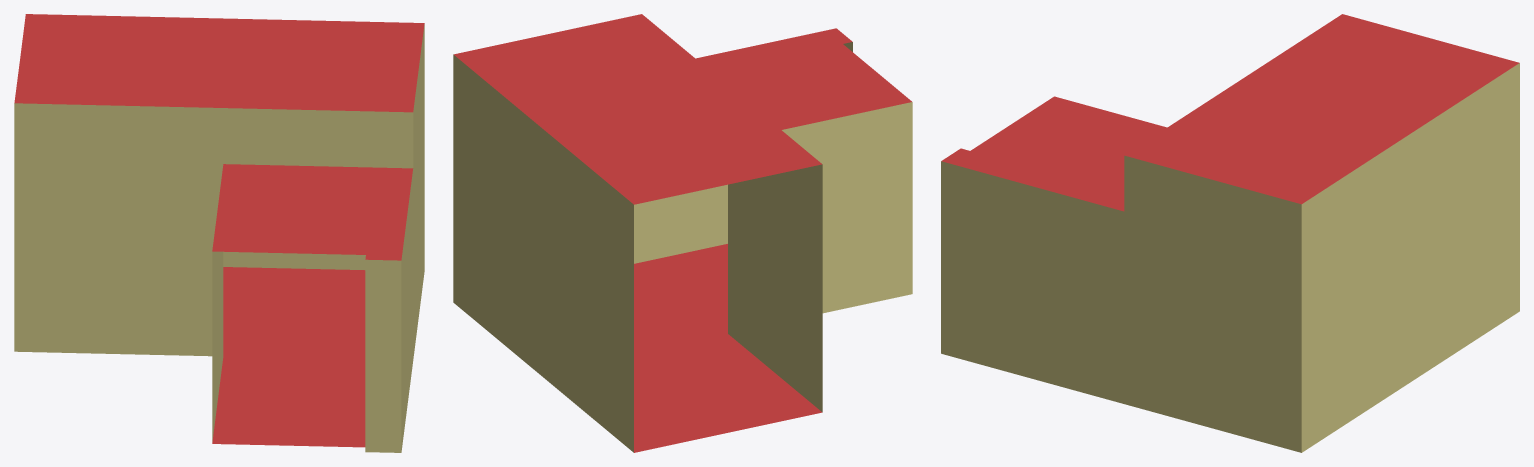
3 renders of one model, left to right at view 1: azimuth 30°, elevation 25°; view 2: azimuth 150°, elevation 25°; view 3: azimuth 270°, elevation 25°, orthographic.
Bounding box in the file's own units: 12.69 × 16.3 × 7.73.
